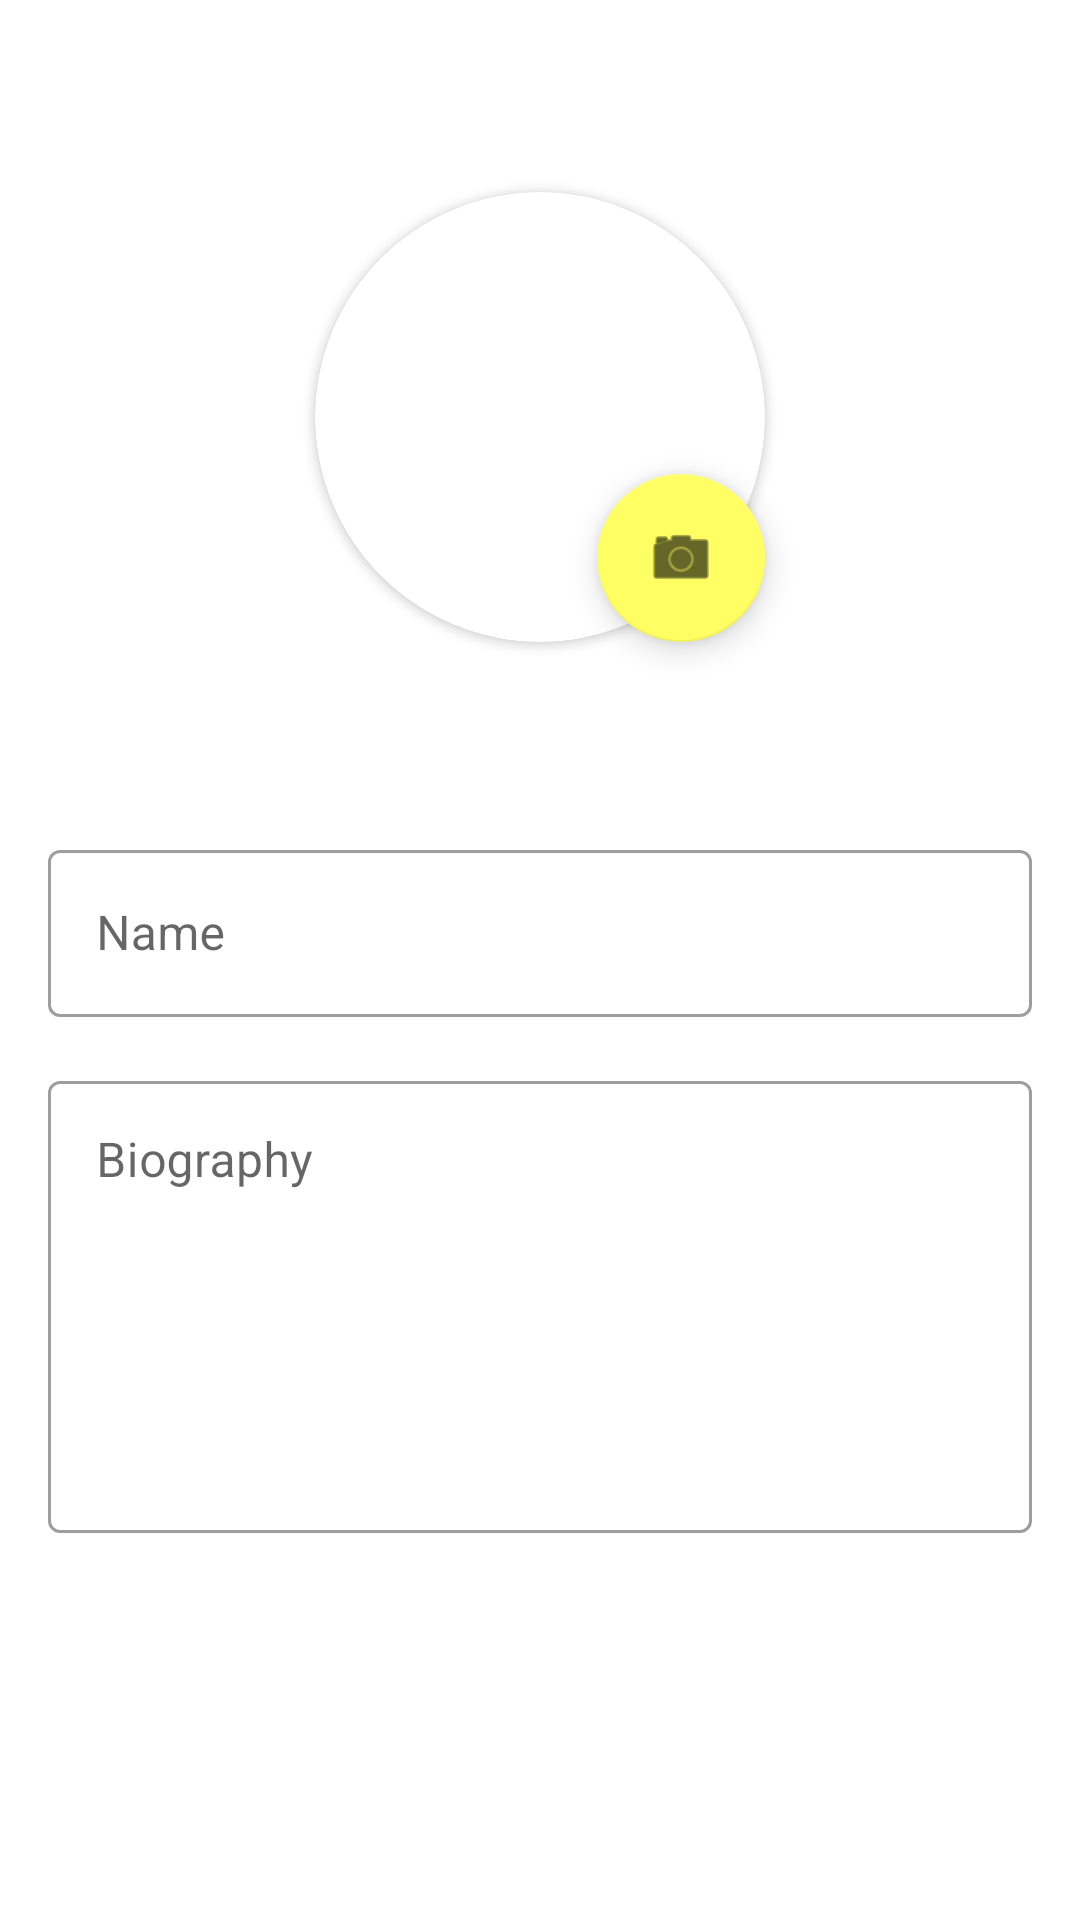

Screen size 1080 x 1920. Icon name, then its box in pixels as {"left": x1, "top": y1, "right": x2, "bottom": y2}:
Add new avatar button: {"left": 597, "top": 474, "right": 765, "bottom": 642}
